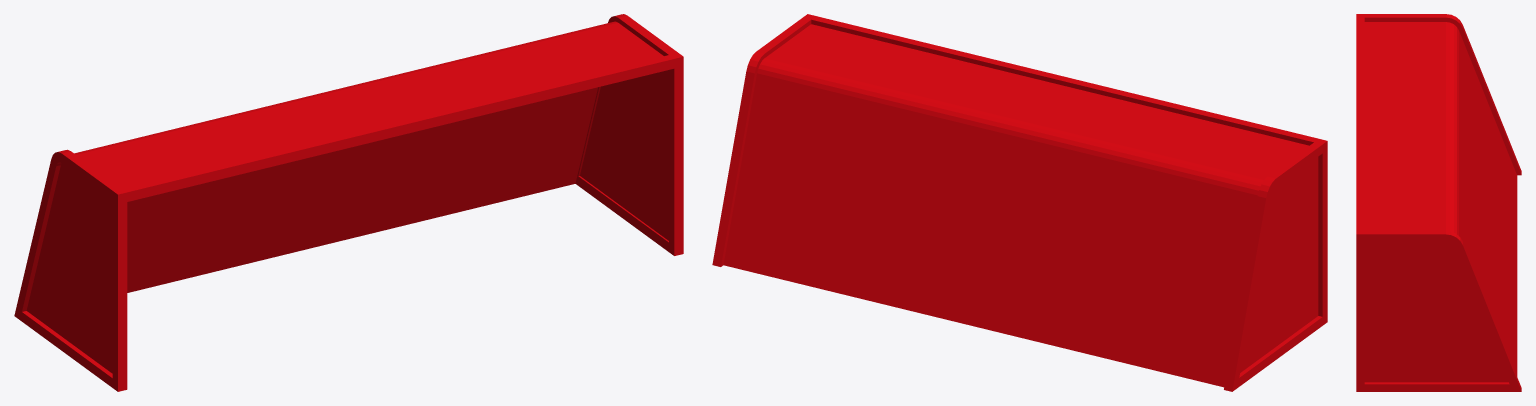
Rendered from Gates_Basic_3D.fbx.
3 renders of one model, left to right at view 1: azimuth 30°, elevation 25°; view 2: azimuth 150°, elevation 25°; view 3: azimuth 270°, elevation 25°, orthographic. The views are drawn at different scales.
Visible parts, largest first — view 1: Cube.002; view 2: Cube.002; view 3: Cube.002.
Part boxes in pixels (box(x1,y1,x2,y2)): Cube.002: box(14, 14, 683, 391); Cube.002: box(712, 14, 1327, 391); Cube.002: box(1356, 14, 1521, 391).
Size of the model in its own units: 732 by 244 by 232.
